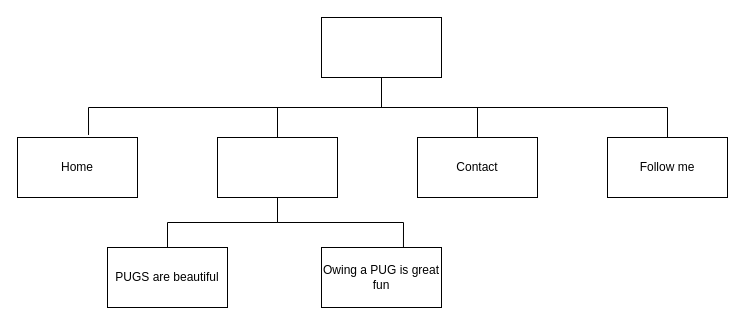
Some shapes in this 745 by 325 pixel diagram are drawn without their labels. Here are the shapes that lost their labels. From the top down, the centre of each, then its label:
At (381,47): "Home page".
At (277,167): "Intro".
